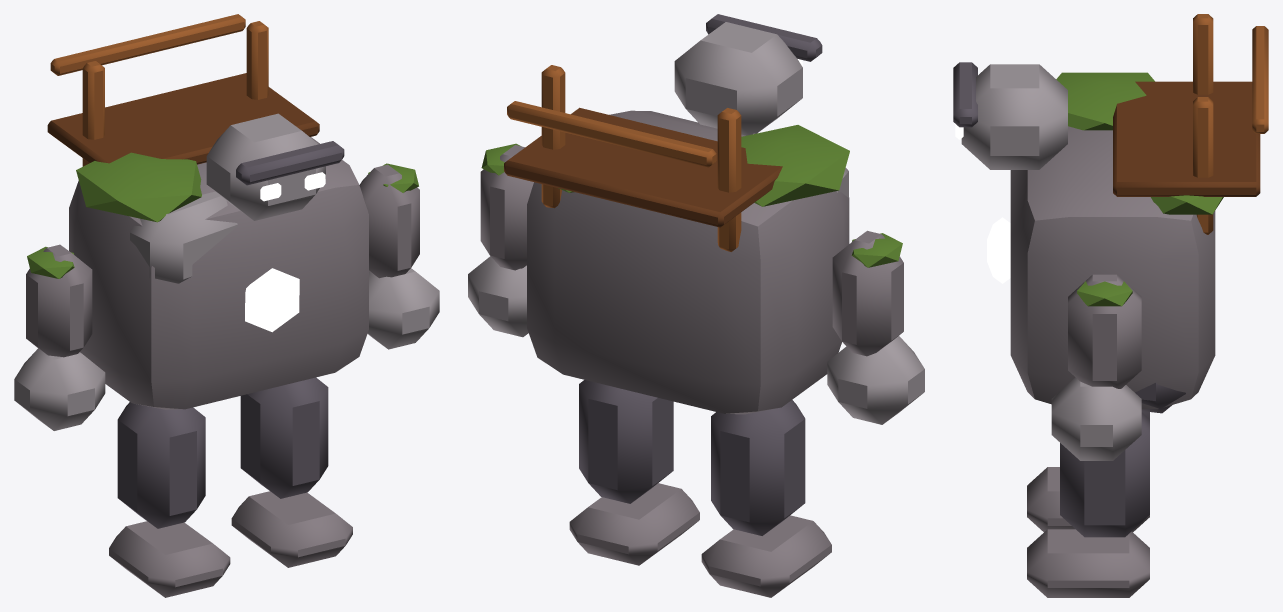
The model's file is comp_golem.glb.
The picture shows the model from 3 angles, left to right: view 1: azimuth 30°, elevation 25°; view 2: azimuth 150°, elevation 25°; view 3: azimuth 270°, elevation 25°; orthographic projection. The views are drawn at different scales.
Parts seen in each view (by area): view 1: body, leg_l, leg_r, arm_l, arm_r, head, core_glow, eyes_glow; view 2: body, leg_l, leg_r, arm_l, head, arm_r; view 3: body, leg_r, arm_r, head, leg_l, core_glow.
Part boxes in pixels (<box>): body: <box>47,14,368,409</box>; leg_l: <box>109,402,230,597</box>; leg_r: <box>231,377,352,567</box>; arm_l: <box>14,244,105,430</box>; arm_r: <box>359,163,439,349</box>; head: <box>206,113,344,220</box>; core_glow: <box>245,268,299,332</box>; eyes_glow: <box>260,172,325,201</box>; body: <box>504,65,849,414</box>; leg_l: <box>701,400,831,597</box>; leg_r: <box>569,380,699,565</box>; arm_l: <box>827,230,924,424</box>; head: <box>674,14,822,135</box>; arm_r: <box>468,143,533,337</box>; body: <box>1010,14,1268,413</box>; leg_r: <box>1027,412,1149,597</box>; arm_r: <box>1051,274,1141,460</box>; head: <box>953,62,1067,169</box>; leg_l: <box>1027,411,1149,531</box>; core_glow: <box>987,217,1010,283</box>.
Size of the model in its own units: 1.2 by 1.34 by 0.77.
